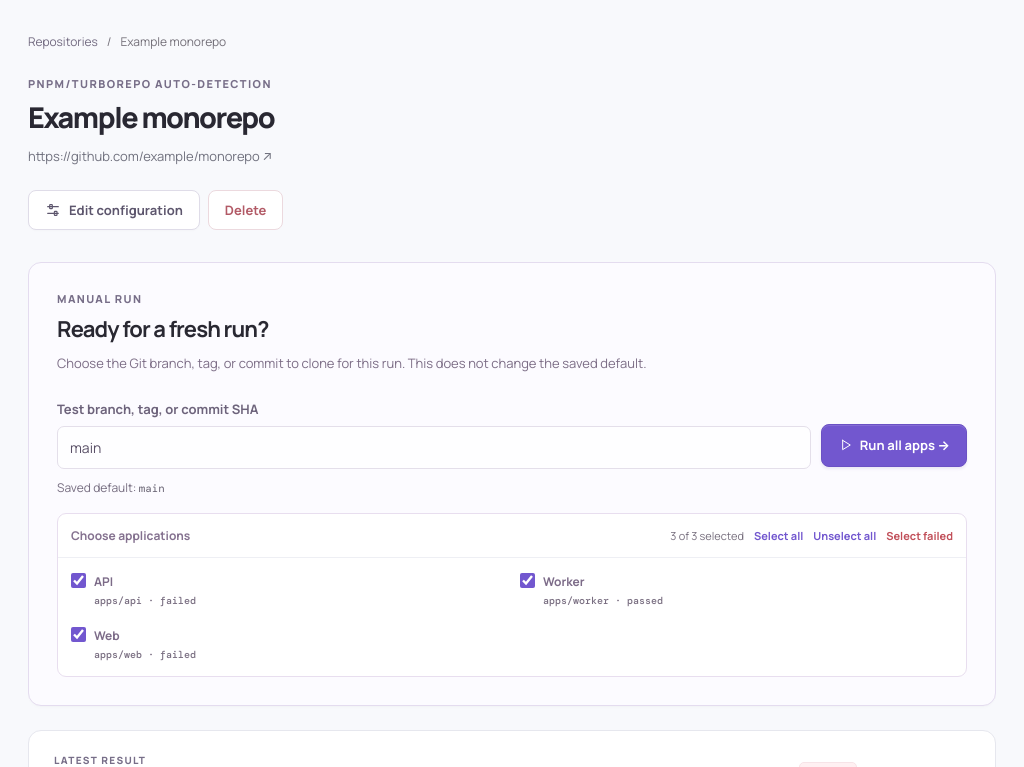
it: repository app selection › unselects and reselects every app
Expected: the text "3 of 3 selected" is shown, [670, 528, 744, 543]
Click the button "Unselect all" at (845, 536), box [813, 525, 876, 546]
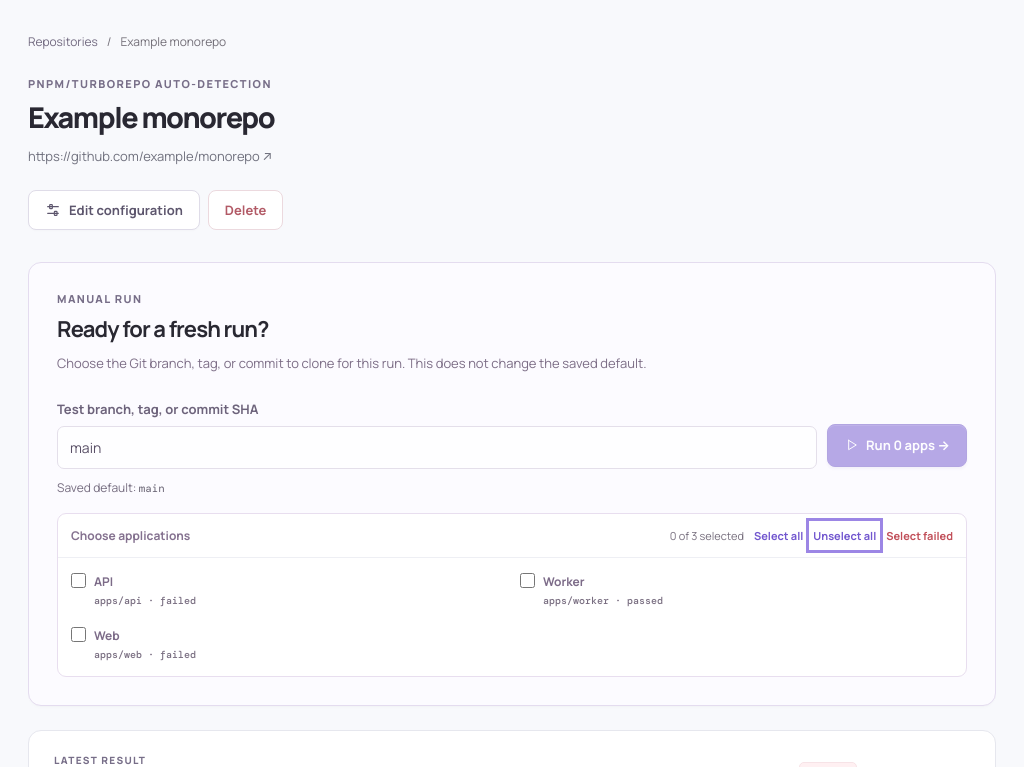
Now the text "0 of 3 selected" is shown, box [670, 528, 744, 543]
Now the button "Run 0 apps →" is disabled, box [827, 424, 967, 467]
Click the button "Select all" at (779, 536), box [754, 525, 803, 546]
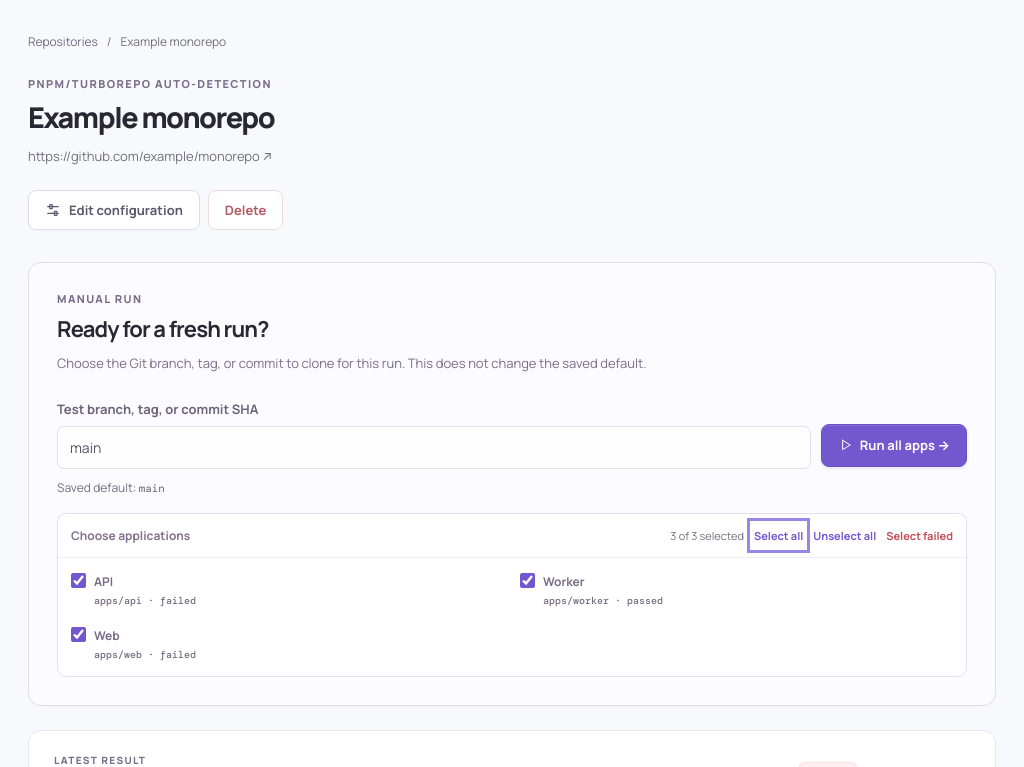
Now the text "3 of 3 selected" is shown, box [670, 528, 744, 543]
Now the button "Run all apps →" is enabled, box [821, 424, 967, 467]
